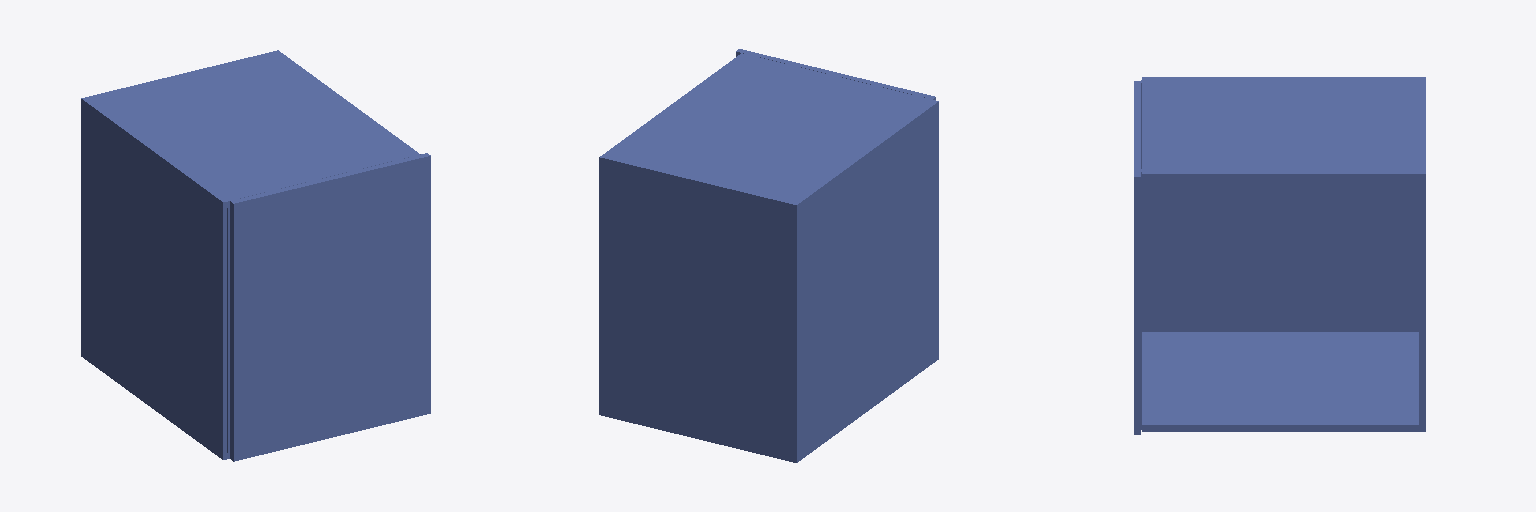
File: sektion.obj
3 renders of one model, left to right at view 1: azimuth 30°, elevation 25°; view 2: azimuth 150°, elevation 25°; view 3: azimuth 270°, elevation 25°, orthographic.
Parts seen in each view (by area): view 1: sektion; view 2: sektion; view 3: sektion.
Boxes of the visible parts, <box> form: sektion: <box>81,50,430,461</box>; sektion: <box>599,49,938,462</box>; sektion: <box>1134,77,1425,434</box>.
Bounding box in the file's own units: 0.6298 × 0.762 × 0.783.